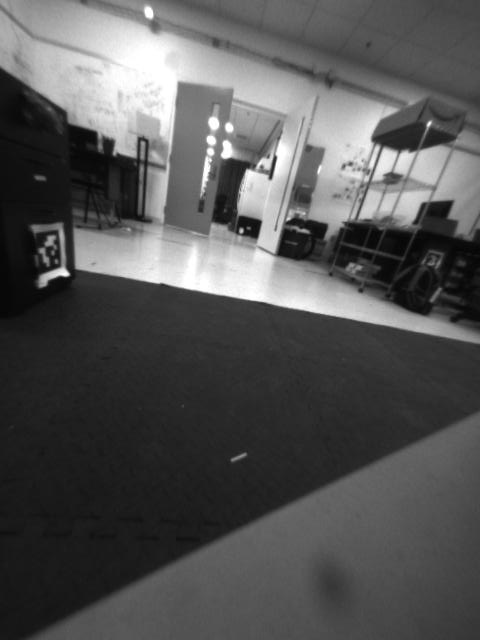drawer: (26, 92, 65, 147)
